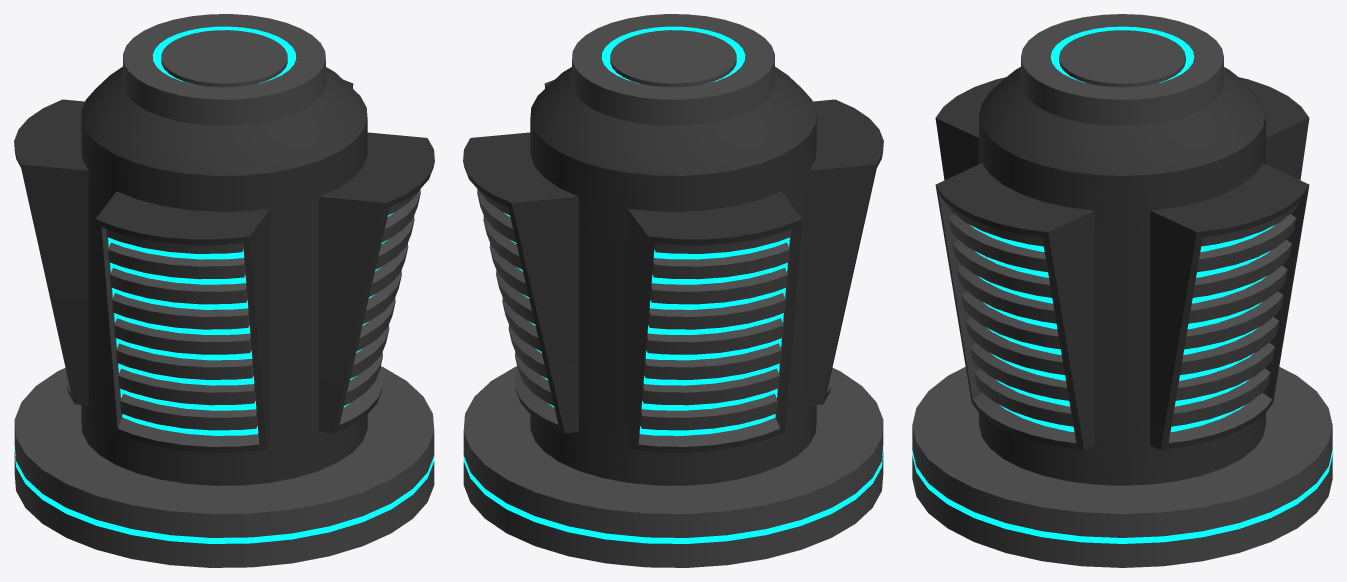
Rendered from SM_Prop_E.fbx.
The picture shows the model from 3 angles, left to right: view 1: azimuth 30°, elevation 25°; view 2: azimuth 150°, elevation 25°; view 3: azimuth 270°, elevation 25°; orthographic projection.
Parts seen in each view (by area): view 1: SM_Prop_E; view 2: SM_Prop_E; view 3: SM_Prop_E.
Boxes of the visible parts, <box> form: SM_Prop_E: <box>14,14,434,567</box>; SM_Prop_E: <box>463,14,883,567</box>; SM_Prop_E: <box>912,14,1332,567</box>.
Bounding box in the file's own units: 90.16 × 99.92 × 90.16.
